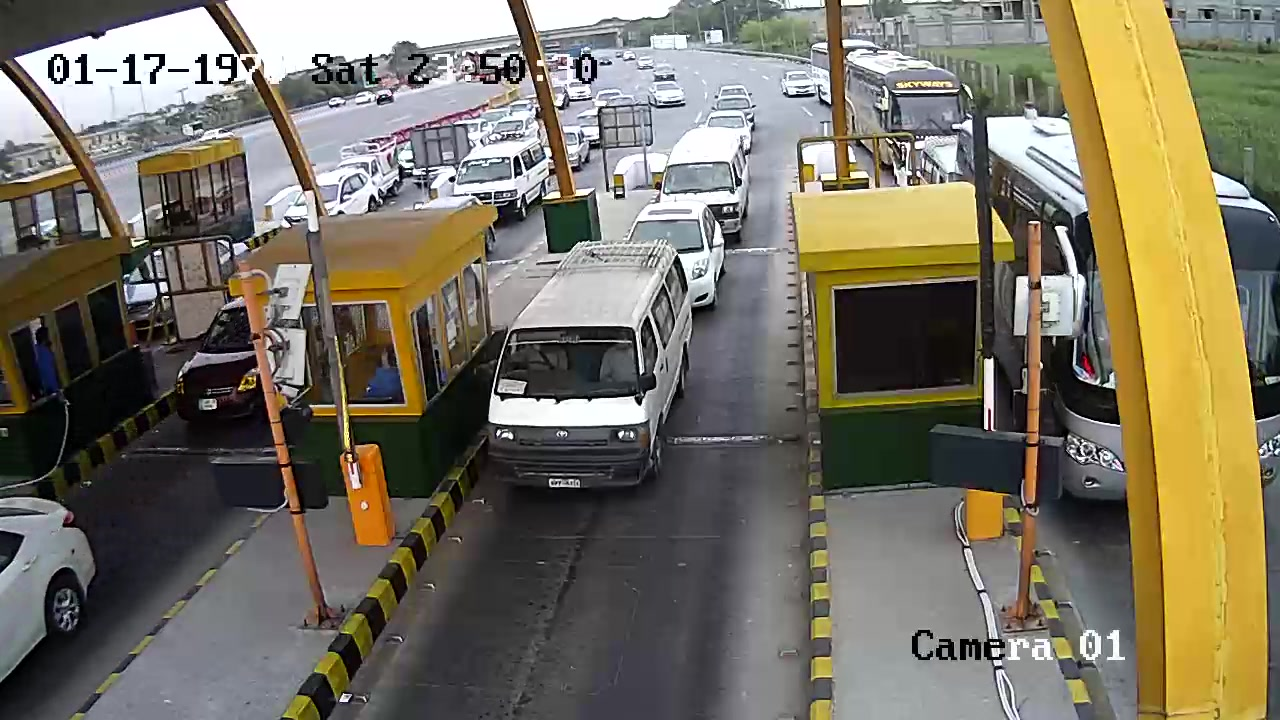F3: (484, 231, 697, 500)
